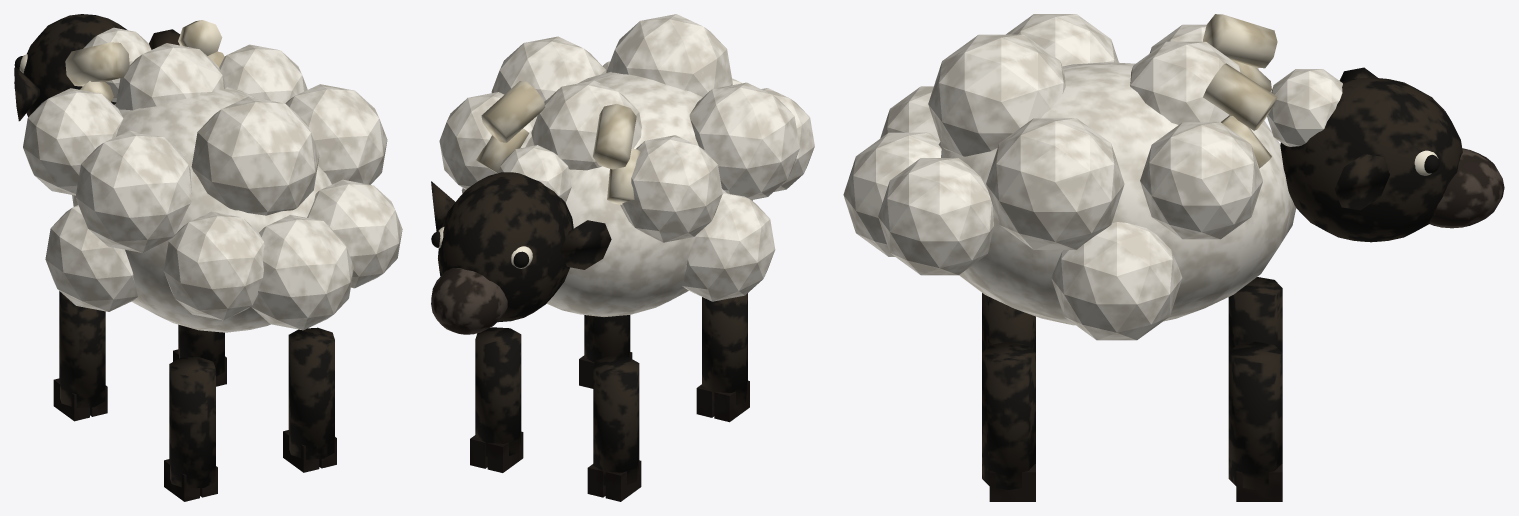
Rendered from sheep.glb.
3 renders of one model, left to right at view 1: azimuth 30°, elevation 25°; view 2: azimuth 150°, elevation 25°; view 3: azimuth 270°, elevation 25°, orthographic. The views are drawn at different scales.
Visible parts, largest first — view 1: sheep; view 2: sheep; view 3: sheep.
Boxes of the visible parts, <box> form: sheep: <box>14,14,402,501</box>; sheep: <box>431,14,814,501</box>; sheep: <box>843,14,1504,501</box>.
Size of the model in its own units: 1 by 1.21 by 1.72.
Materials: 7 (7 with a texture image).
